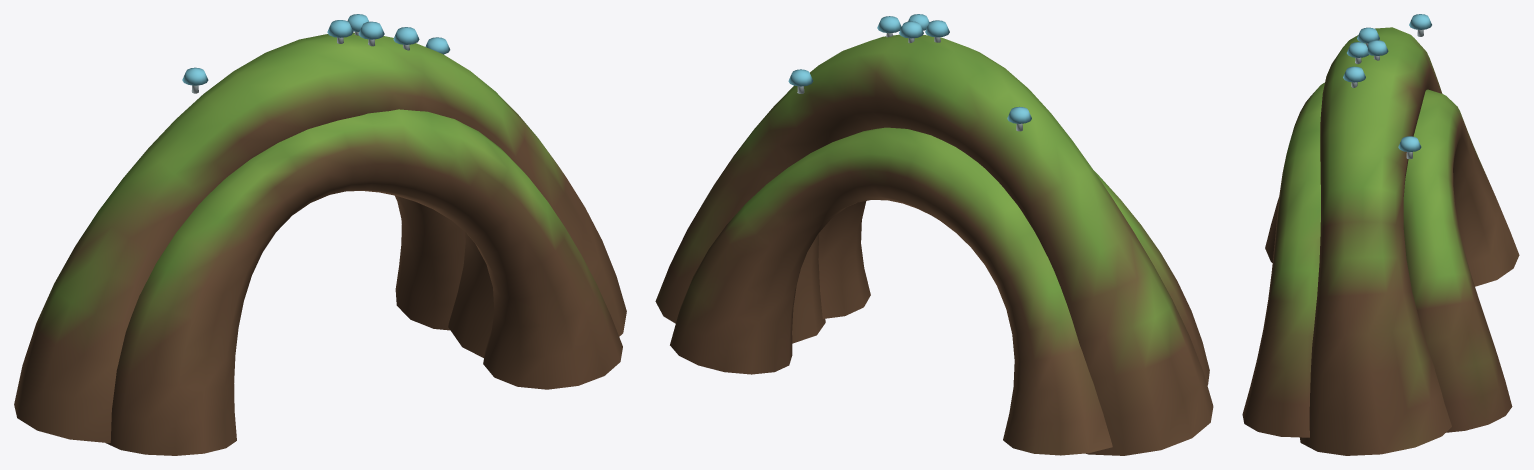
File: RootArch.fbx
3 renders of one model, left to right at view 1: azimuth 30°, elevation 25°; view 2: azimuth 150°, elevation 25°; view 3: azimuth 270°, elevation 25°, orthographic. The views are drawn at different scales.
Parts seen in each view (by area): view 1: RootArch; view 2: RootArch; view 3: RootArch.
Boxes of the visible parts, x1,y1,x2,y2 form: RootArch: (14,14,626,455); RootArch: (655,14,1213,455); RootArch: (1242,14,1519,455).
Size of the model in its own units: 7.06 by 4.25 by 3.32.
